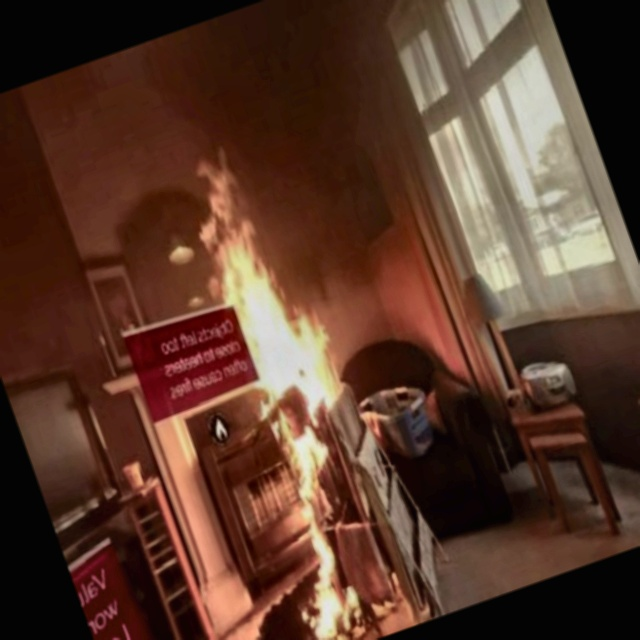fire: (184, 152, 330, 410)
